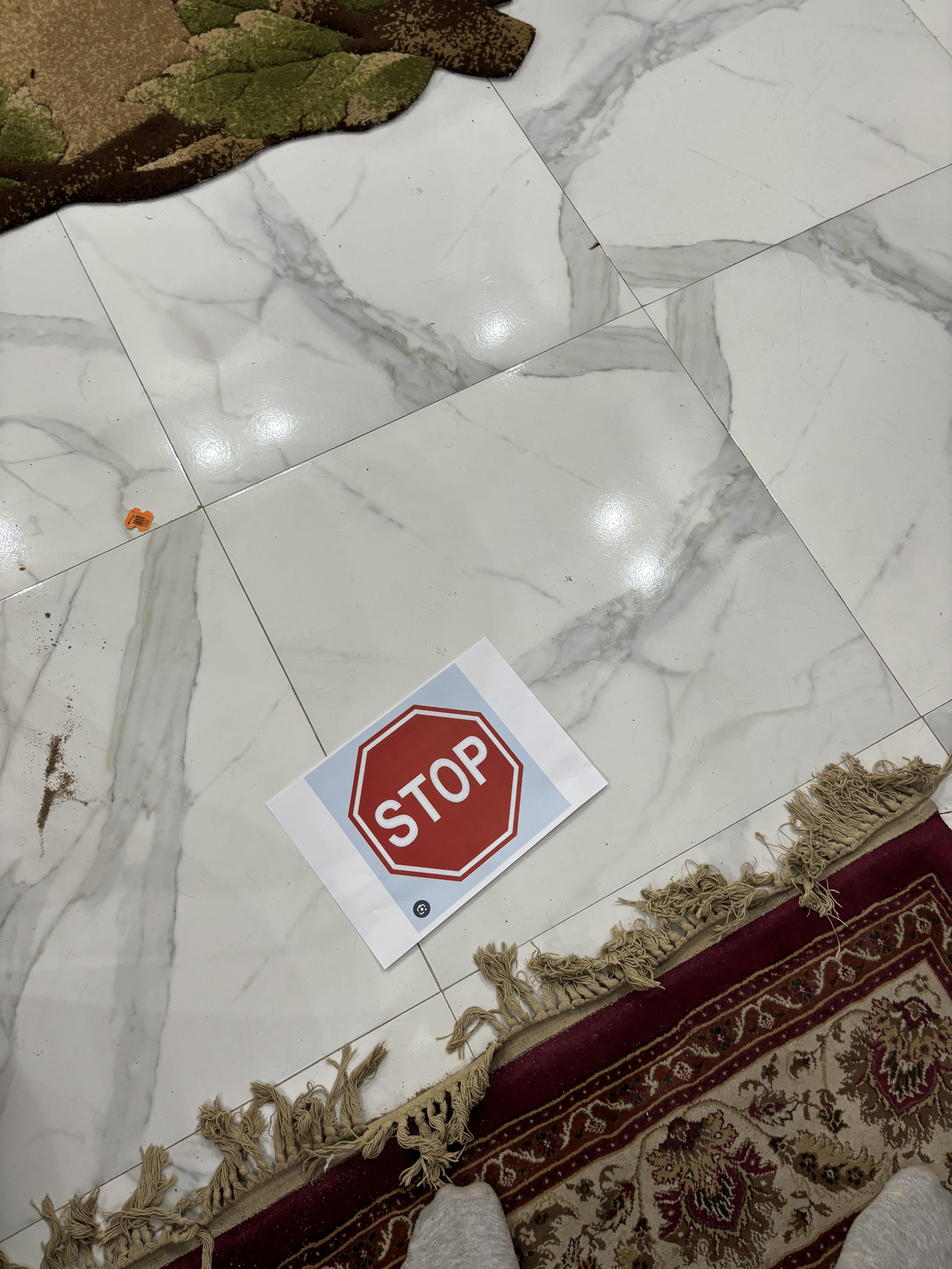Stop: (346, 702, 530, 882)
